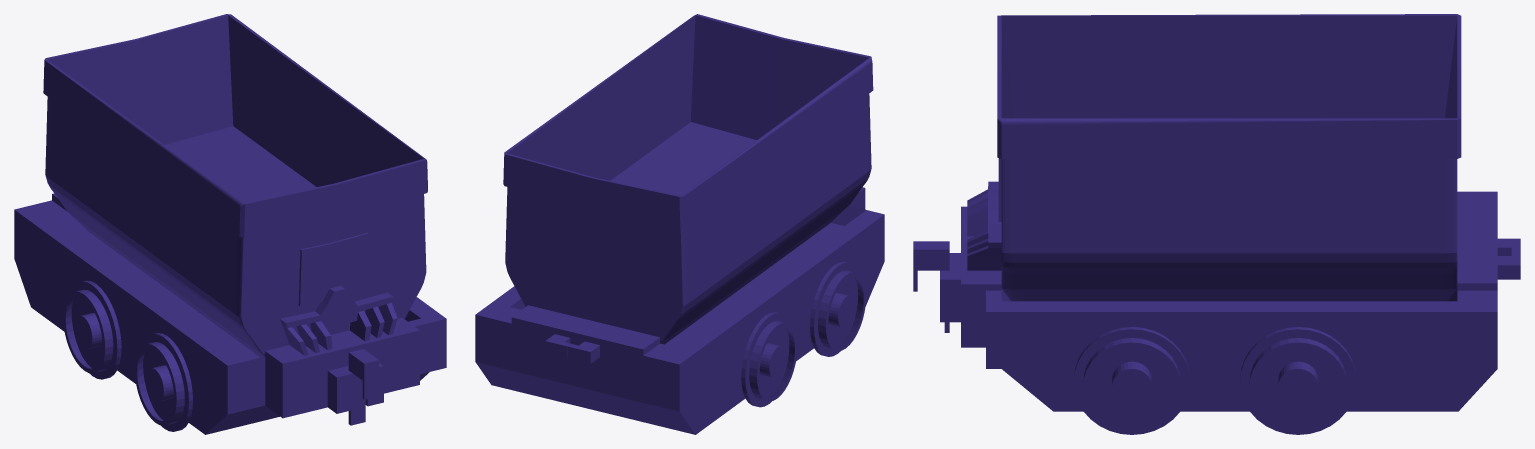
The model's file is enemy.fbx.
3 renders of one model, left to right at view 1: azimuth 30°, elevation 25°; view 2: azimuth 150°, elevation 25°; view 3: azimuth 270°, elevation 25°, orthographic. The views are drawn at different scales.
Visible parts, largest first — view 1: Cube, Cylinder.003, Cylinder.001; view 2: Cube, Cylinder.001, Cylinder.003; view 3: Cube, Cylinder, Cylinder.002.
Boxes of the visible parts, left/top/right/bottom form: Cube: left=14, top=14, right=446, bottom=434; Cylinder.003: left=63, top=280, right=121, bottom=379; Cylinder.001: left=134, top=333, right=192, bottom=431; Cube: left=475, top=14, right=884, bottom=434; Cylinder.001: left=810, top=261, right=865, bottom=356; Cylinder.003: left=741, top=312, right=797, bottom=407; Cube: left=913, top=14, right=1520, bottom=411; Cylinder: left=1073, top=327, right=1190, bottom=434; Cylinder.002: left=1240, top=327, right=1356, bottom=434.
Size of the model in its own units: 443 by 451 by 819.
